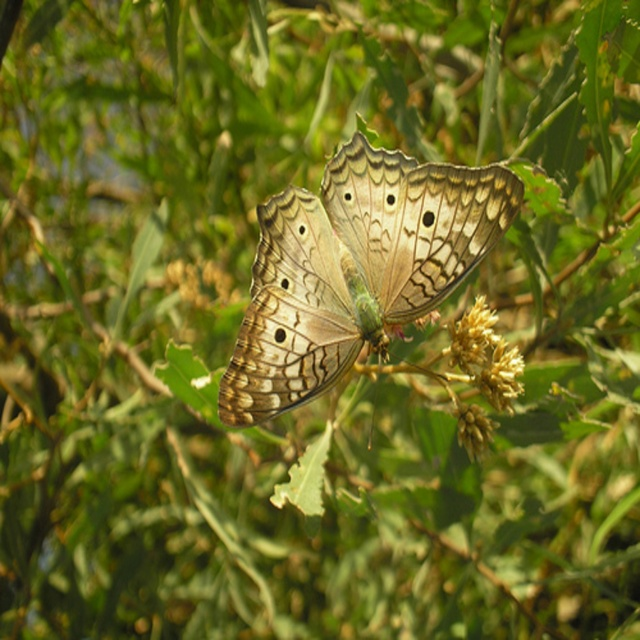Butterfly: (216, 132, 525, 443)
